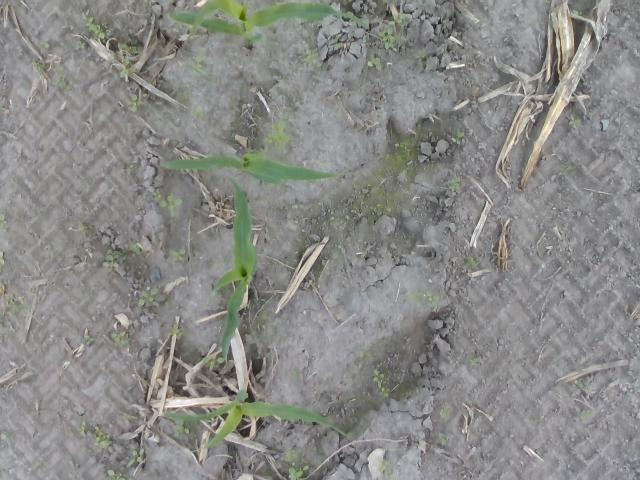Maize: (162, 390, 348, 450), (208, 176, 260, 364), (170, 0, 372, 47), (158, 149, 346, 184)
Weeds: (32, 59, 70, 90), (266, 116, 294, 149), (80, 422, 110, 450), (115, 45, 138, 80), (80, 12, 104, 38), (286, 449, 306, 480), (408, 292, 440, 310), (373, 370, 392, 397), (138, 290, 158, 312), (160, 194, 182, 214), (188, 58, 206, 80), (386, 13, 411, 26), (104, 252, 122, 270), (382, 29, 396, 50), (367, 56, 388, 70), (128, 450, 144, 467), (170, 249, 186, 264), (448, 176, 462, 192), (112, 330, 128, 344), (128, 90, 138, 112), (452, 127, 466, 142), (204, 357, 223, 368), (168, 325, 182, 339), (439, 406, 452, 420), (303, 52, 318, 64), (107, 472, 129, 480), (416, 51, 428, 63), (470, 358, 484, 368), (192, 108, 205, 118), (438, 434, 448, 446), (288, 368, 298, 380), (42, 40, 52, 50), (77, 40, 87, 50), (568, 118, 579, 127), (468, 258, 477, 269)
